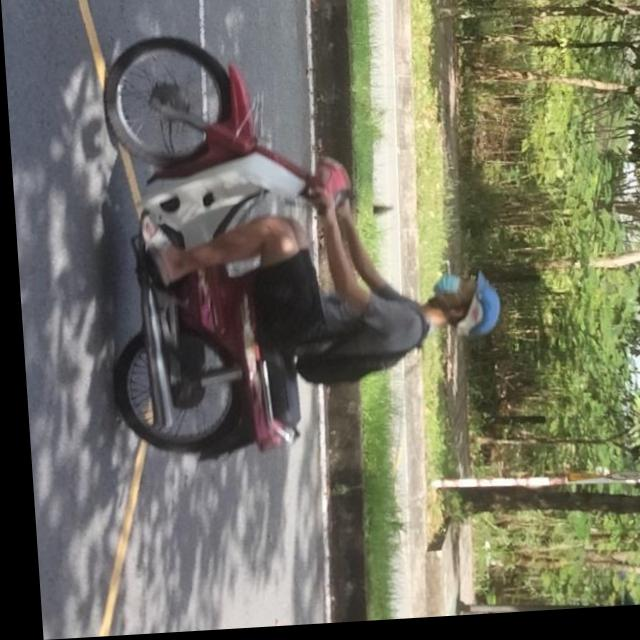WITH_HELMET: (431, 278, 502, 344)
